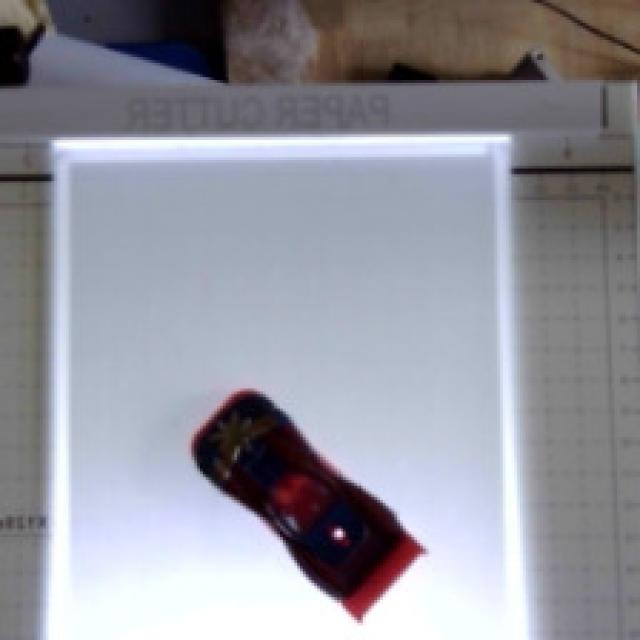Red Car: (171, 361, 425, 640)
